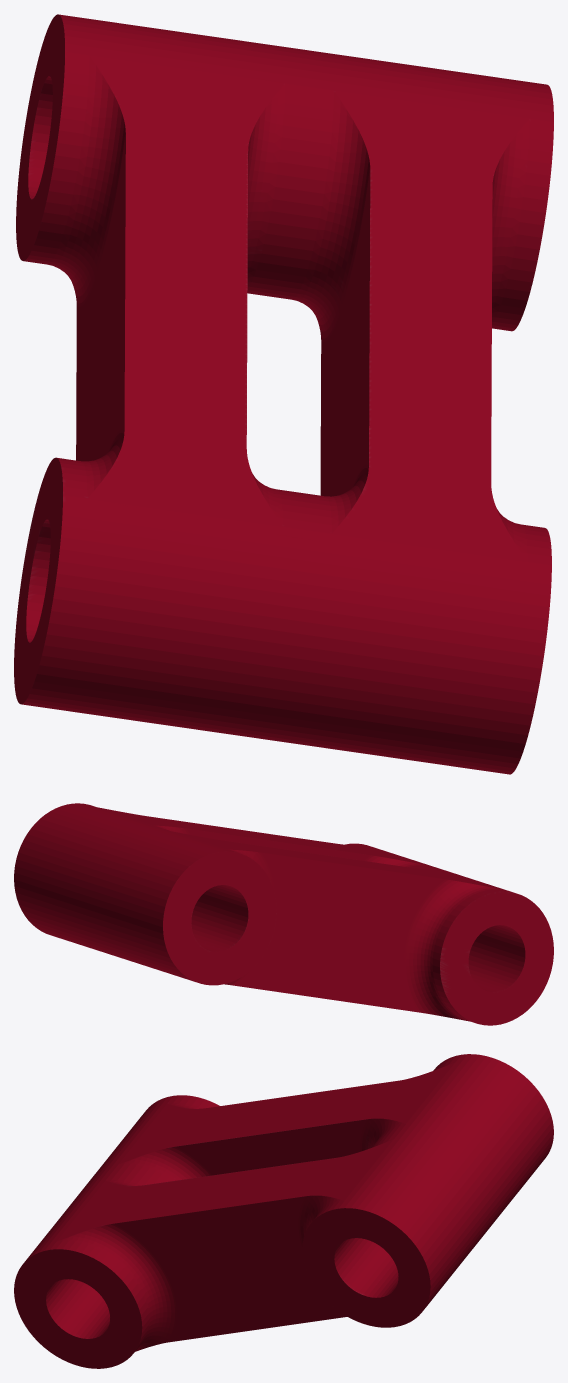
File: double.glb
The picture shows the model from 3 angles, top to bottom: view 1: azimuth 30°, elevation 25°; view 2: azimuth 150°, elevation 25°; view 3: azimuth 270°, elevation 25°; orthographic projection. The views are drawn at different scales.
Visible parts, largest first — view 1: node_id3; view 2: node_id3; view 3: node_id3.
Boxes of the visible parts, left/top/right/bottom form: node_id3: left=14, top=14, right=553, bottom=774; node_id3: left=14, top=803, right=553, bottom=1025; node_id3: left=14, top=1054, right=553, bottom=1368.
Size of the model in its own units: 0.8739 by 0.5688 by 0.9713.
1 material, 1 textured.
